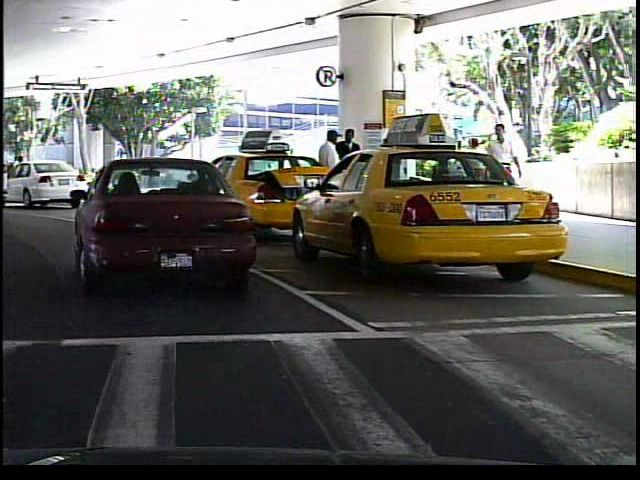person: (485, 119, 525, 225), (313, 126, 343, 221), (336, 126, 363, 215), (458, 131, 487, 208), (9, 150, 25, 166)
